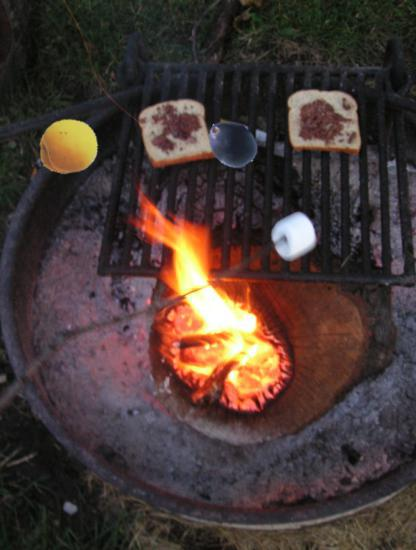Peach: (38, 116, 99, 177)
Plum: (205, 117, 259, 171)
